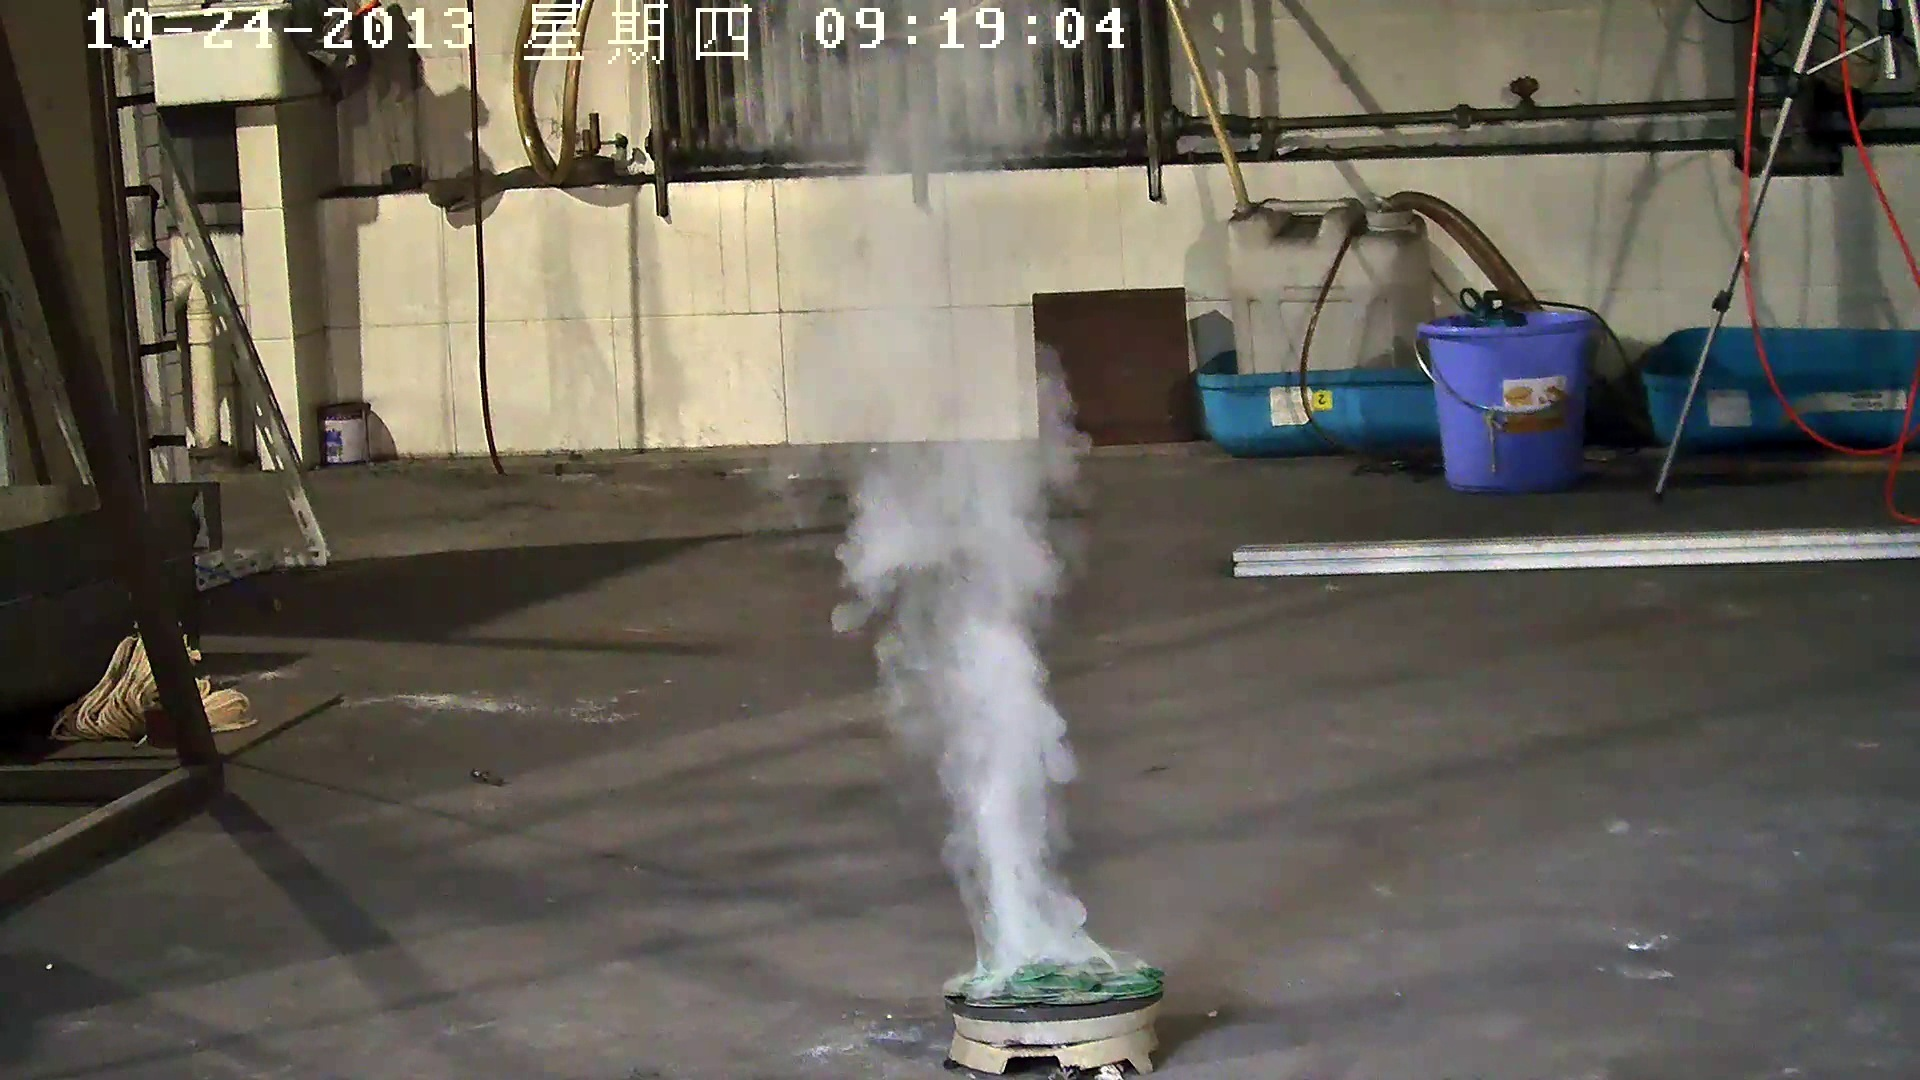smoke: (736, 199, 1146, 1000)
